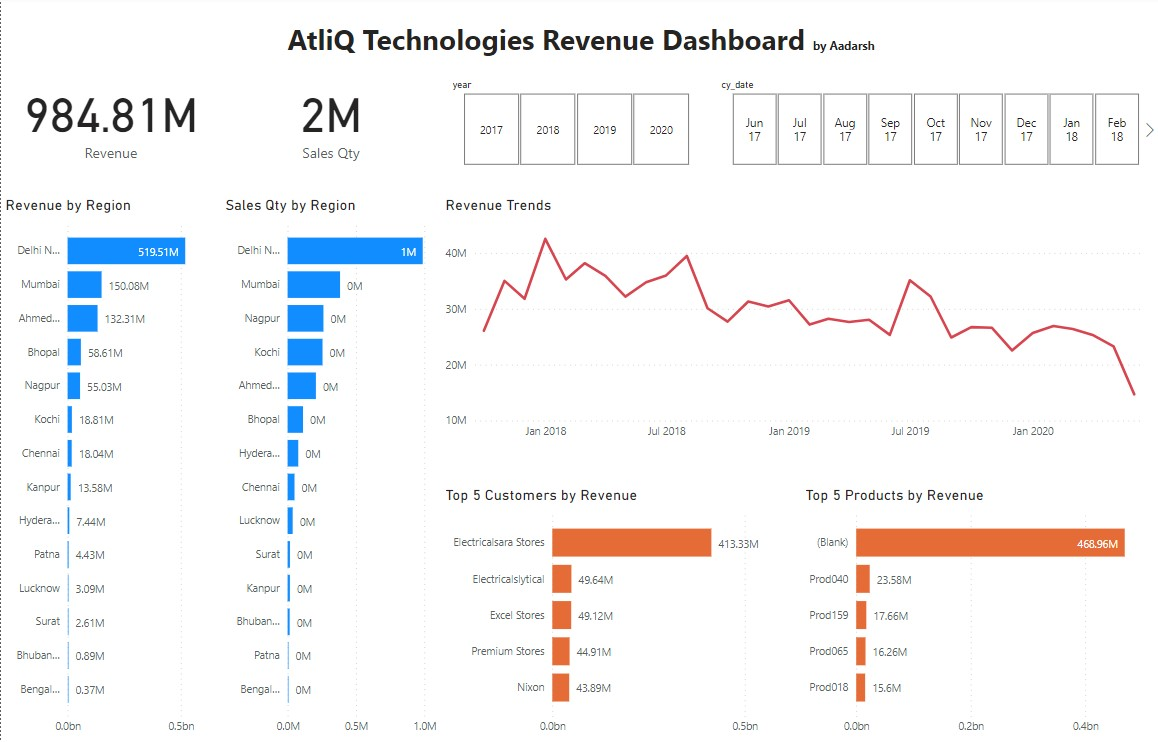

Layout of this report page (visuals, bound fields, positions):
{"tool":"powerbi","page":{"name":"Page 1","canvas":[1320,850],"ordinal":0},"visuals":[{"type":"card","fields":{"Values":["BaseMeasures.Revenue"]},"box":[0,51.3,250.6,176.5],"z":0},{"type":"card","fields":{"Values":["BaseMeasures.Sales Qty"]},"box":[250.6,51.3,250.6,176.5],"z":1000},{"type":"barChart","title":"Revenue by Region","fields":{"Y":["BaseMeasures.Revenue"],"Category":["sales markets.markets_name"]},"box":[0,227.8,250.6,622.2],"z":2000},{"type":"barChart","title":"Sales Qty by Region","fields":{"Y":["BaseMeasures.Sales Qty"],"Category":["sales markets.markets_name"]},"box":[250.6,227.8,250.6,622.2],"z":3000},{"type":"slicer","fields":{"Values":["sales date.year"]},"box":[501.2,89.7,306.1,109.6],"z":4000},{"type":"slicer","fields":{"Values":["sales date.cy_date"]},"box":[807.3,89.7,512.6,109.6],"z":5000},{"type":"barChart","title":"Top 5 Customers by Revenue","fields":{"Y":["BaseMeasures.Revenue"],"Category":["sales customers.custmer_name"]},"box":[501.2,558.1,410.1,291.9],"z":6000},{"type":"barChart","title":"Top 5 Products by Revenue","fields":{"Y":["BaseMeasures.Revenue"],"Category":["sales products.product_code"]},"box":[911.2,558.1,408.6,291.9],"z":7000},{"type":"lineChart","title":"Revenue Trends","fields":{"Y":["BaseMeasures.Revenue"],"Category":["sales date.cy_date"]},"box":[501.2,227.8,818.7,286.2],"z":8000},{"type":"textbox","box":[316.1,22.8,689.1,58.4],"z":9000}]}

Visuals, with their boxes in screenshot pixels (x1, y1, x2, y2), scaled from the page's 1320x850 canvas onto the 1158x742 screenshot:
card - BaseMeasures.Revenue: Rect(0, 45, 220, 199)
card - BaseMeasures.Sales Qty: Rect(220, 45, 440, 199)
"Revenue by Region" barChart: Rect(0, 199, 220, 741)
"Sales Qty by Region" barChart: Rect(220, 199, 440, 741)
slicer - sales date.year: Rect(440, 78, 708, 174)
slicer - sales date.cy_date: Rect(708, 78, 1157, 174)
"Top 5 Customers by Revenue" barChart: Rect(440, 487, 799, 741)
"Top 5 Products by Revenue" barChart: Rect(799, 487, 1157, 741)
"Revenue Trends" lineChart: Rect(440, 199, 1157, 449)
textbox: Rect(277, 20, 882, 71)
